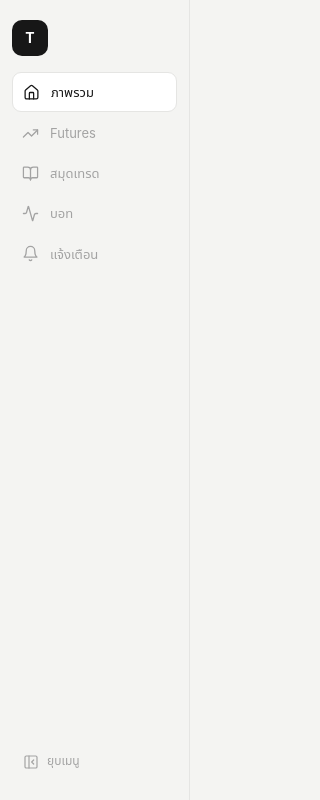
Scenario: Sidebar — router จริง › ปุ่มยุบเมนู -> label หายไป เหลือแค่ไอคอน และจำสถานะไว้ใน localStorage
Click the button "ยุบเมนู" at (94, 762), box [12,743,177,780]
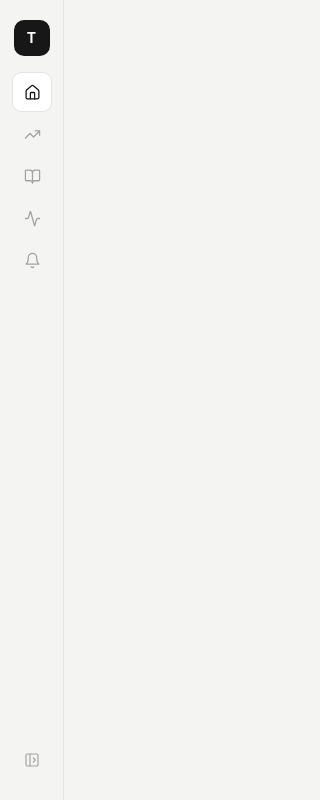
Check: the text with class "side" no longer shows "Futures"
